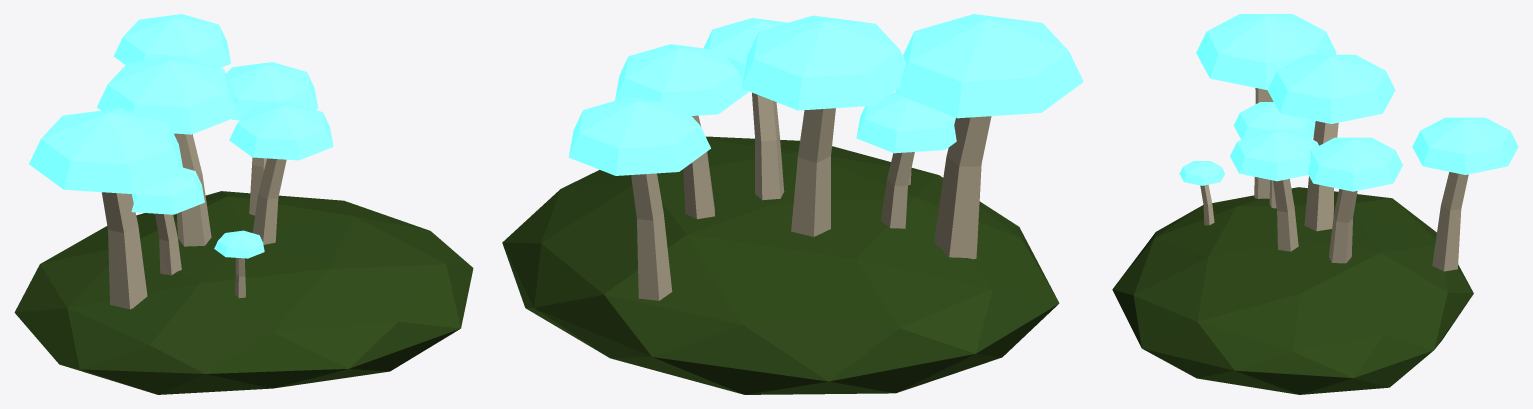
Rendered from hongos_brillo.fbx.
3 renders of one model, left to right at view 1: azimuth 30°, elevation 25°; view 2: azimuth 150°, elevation 25°; view 3: azimuth 270°, elevation 25°, orthographic. The views are drawn at different scales.
Visible parts, largest first — view 1: hongos_brillo; view 2: hongos_brillo; view 3: hongos_brillo.
Boxes of the visible parts, bbox=[...] form: hongos_brillo: bbox=[14, 14, 473, 394]; hongos_brillo: bbox=[502, 14, 1083, 394]; hongos_brillo: bbox=[1112, 14, 1518, 394].
Bounding box in the file's own units: 1.82 × 1.24 × 1.73.
